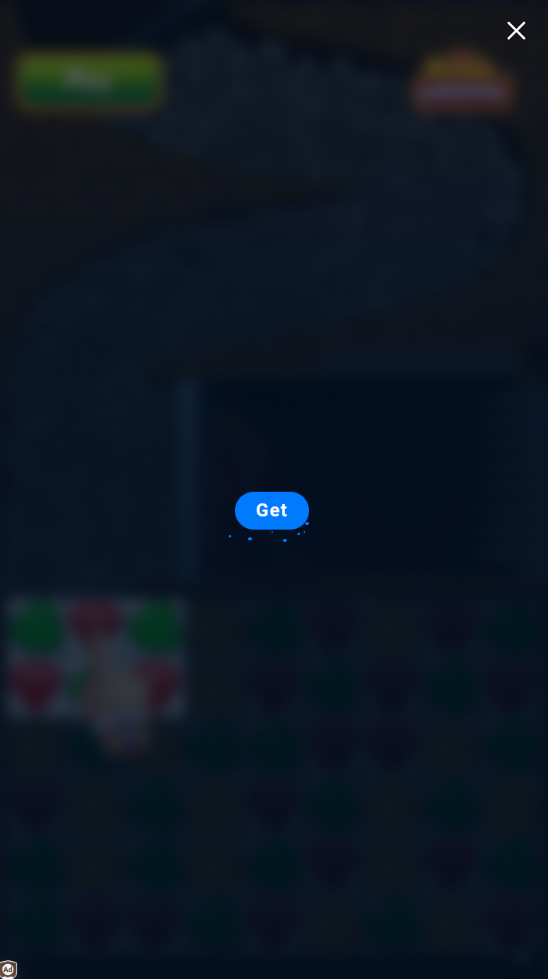close_button: (500, 11, 533, 47)
